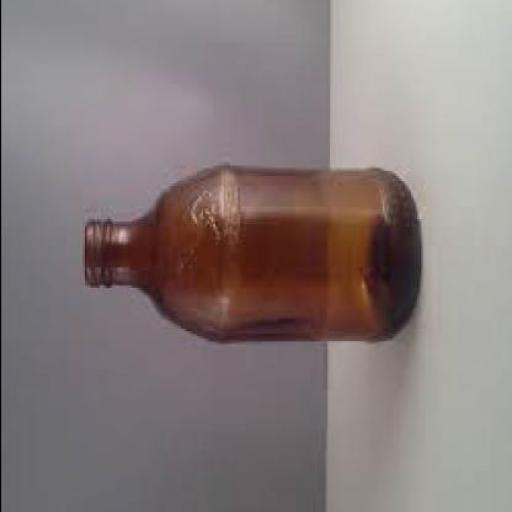glass: (82, 171, 418, 343)
